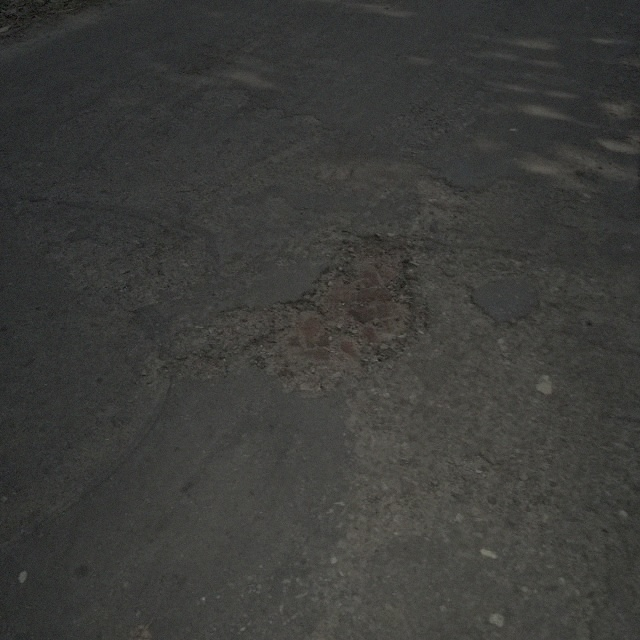pothole: (251, 227, 429, 392)
